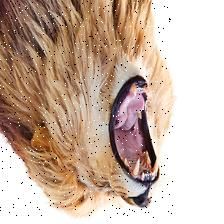Lion: (0, 0, 174, 219)
